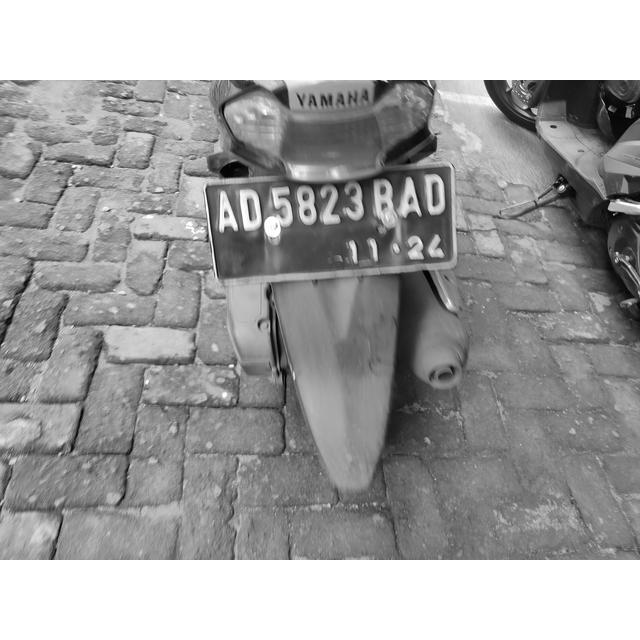license: (215, 170, 446, 264)
